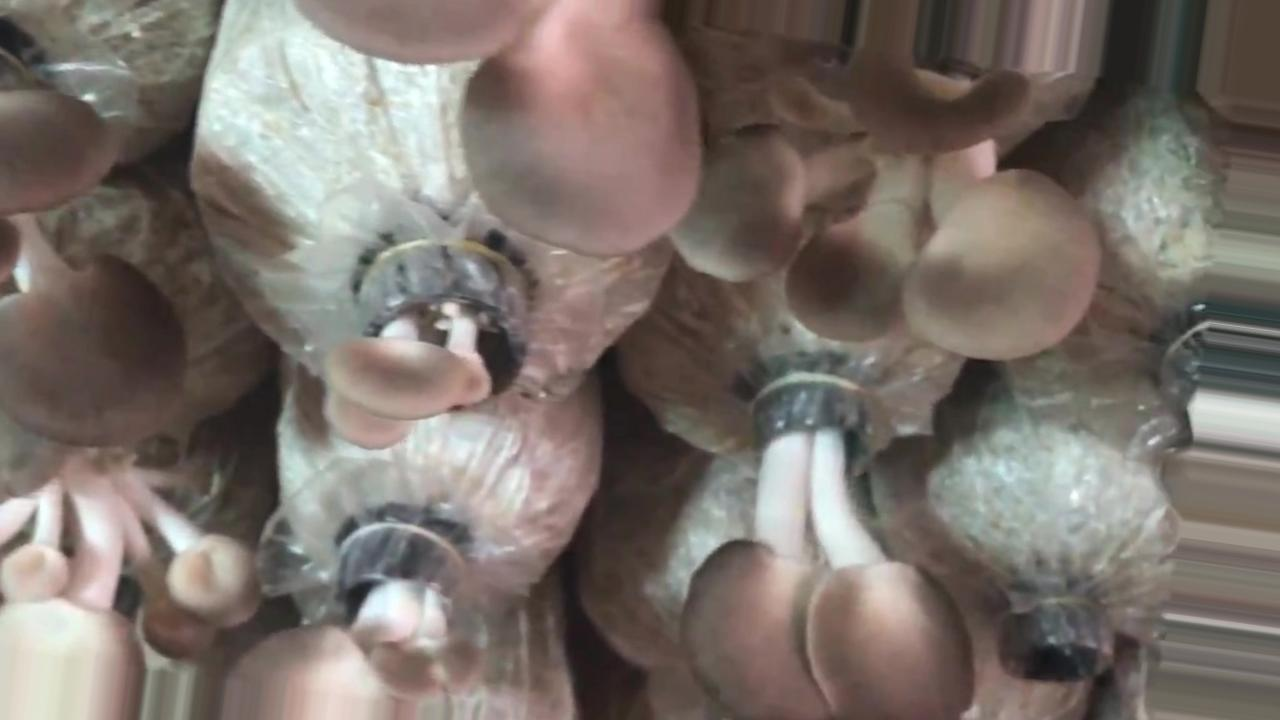nam: (673, 59, 1100, 355), (296, 1, 700, 256), (685, 378, 974, 720), (1, 445, 266, 720), (2, 91, 180, 439), (228, 528, 486, 720), (327, 246, 539, 448)
